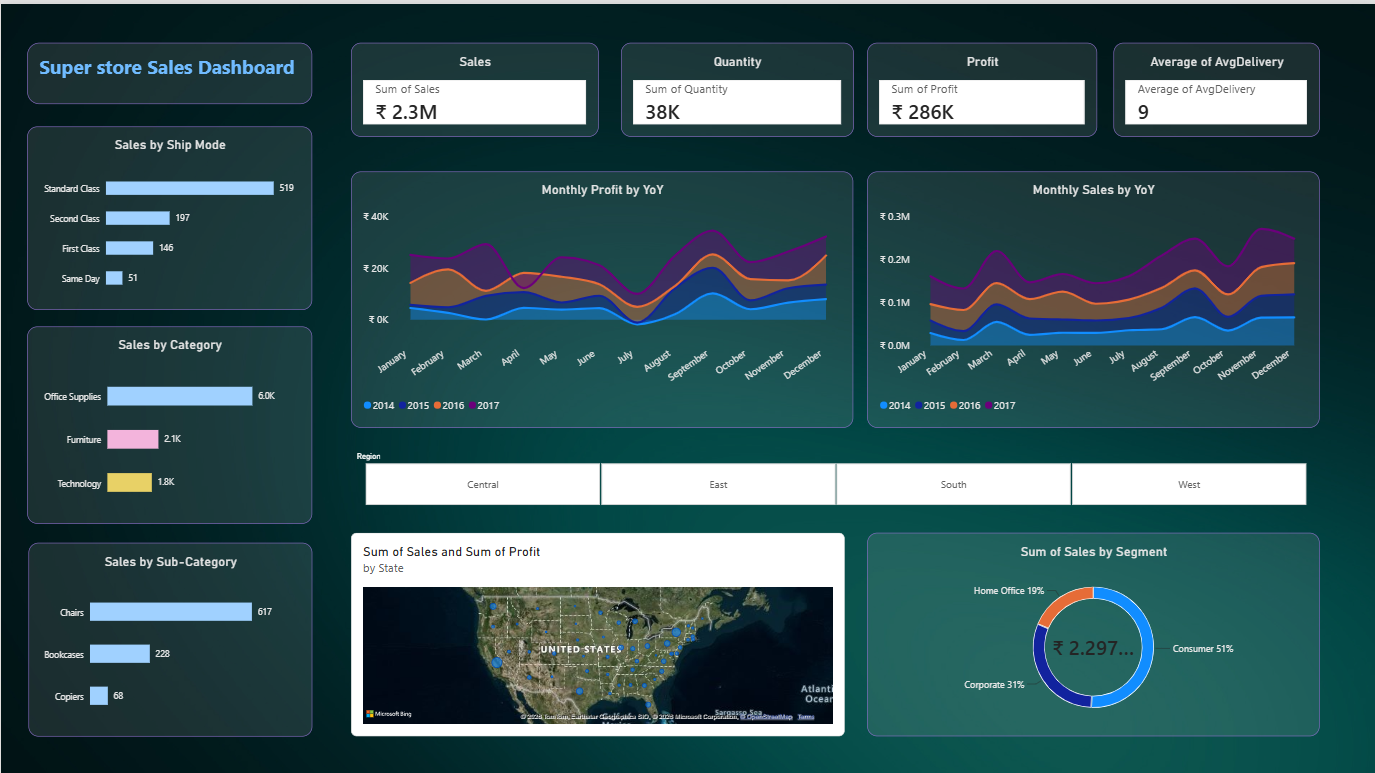

This screenshot's page, from the dashboard's own definition file:
{"tool":"powerbi","page":{"name":"Page 1","canvas":[1920,1080],"ordinal":0},"visuals":[{"type":"clusteredBarChart","title":"Sales by Category","fields":{"Category":["Sample - Superstore.Category"],"Y":["CountNonNull(Sample - Superstore.Sales)"]},"box":[36.6,450,397.7,275.6],"z":0},{"type":"clusteredBarChart","title":"Sales by Sub-Category","fields":{"Y":["CountNonNull(Sample - Superstore.Sales)"],"Category":["Sample - Superstore.Sub-Category"]},"box":[38.4,751.7,395.9,270.3],"z":1000},{"type":"clusteredBarChart","title":"Sales by Ship Mode","fields":{"Y":["CountNonNull(Sample - Superstore.Sales)"],"Category":["Sample - Superstore.Ship Mode"]},"box":[36.6,170.9,397.7,256.4],"z":2000},{"type":"stackedAreaChart","title":" Monthly Sales by YoY","fields":{"Series":["Sample - Superstore.Order Date.Variation.Date Hierarchy.Year"],"Category":["Sample - Superstore.Order Date.Variation.Date Hierarchy.Month","Sample - Superstore.Order Date.Variation.Date Hierarchy.Day"],"Y":["Sum(Sample - Superstore.Sales)"]},"box":[1208.7,233.7,631.4,357.6],"z":3000},{"type":"stackedAreaChart","title":" Monthly Profit by YoY","fields":{"Series":["Sample - Superstore.Order Date.Variation.Date Hierarchy.Year"],"Category":["Sample - Superstore.Order Date.Variation.Date Hierarchy.Month","Sample - Superstore.Order Date.Variation.Date Hierarchy.Day"],"Y":["Sum(Sample - Superstore.Profit)"]},"box":[488.4,233.7,701.2,357.6],"z":4000},{"type":"map","fields":{"Category":["Sample - Superstore.State"],"Size":["Sum(Sample - Superstore.Sales)"]},"box":[488.4,737.8,689,284.3],"z":5000},{"type":"donutChart","fields":{"Category":["Sample - Superstore.Segment"],"Y":["Sum(Sample - Superstore.Sales)"]},"box":[1208.7,737.8,631.4,284.3],"z":6000},{"type":"slicer","fields":{"Values":["Sample - Superstore.Region"]},"box":[488.4,624.4,1351.7,76.7],"z":7000},{"type":"textbox","box":[36.6,54.1,397.7,85.5],"z":8000},{"type":"cardVisual","title":"Sales","fields":{"Data":["Sum(Sample - Superstore.Sales)"]},"box":[488.4,54.1,345.3,130.8],"z":9000},{"type":"cardVisual","title":"Profit","fields":{"Data":["Sum(Sample - Superstore.Profit)"]},"box":[1208.7,54.1,320.9,130.8],"z":10000},{"type":"cardVisual","title":"Quantity","fields":{"Data":["Sum(Sample - Superstore.Quantity)"]},"box":[865.1,54.1,324.4,130.8],"z":11000},{"type":"cardVisual","title":"Average of AvgDelivery","fields":{"Data":["Avg(Sample - Superstore.AvgDelivery)"]},"box":[1552.3,54.1,287.8,130.8],"z":12000}]}

Visuals, with their boxes in screenshot pixels (x1, y1, x2, y2), scaled from the page's 1920x1080 canvas onto the 1375x773 screenshot:
"Sales by Category" clusteredBarChart: bbox=(26, 322, 311, 519)
"Sales by Sub-Category" clusteredBarChart: bbox=(28, 538, 311, 731)
"Sales by Ship Mode" clusteredBarChart: bbox=(26, 122, 311, 306)
" Monthly Sales by YoY" stackedAreaChart: bbox=(866, 167, 1318, 423)
" Monthly Profit by YoY" stackedAreaChart: bbox=(350, 167, 852, 423)
map - Sample - Superstore.State x Sum(Sample - Superstore.Sales): bbox=(350, 528, 843, 732)
donutChart - Sample - Superstore.Segment x Sum(Sample - Superstore.Sales): bbox=(866, 528, 1318, 732)
slicer - Sample - Superstore.Region: bbox=(350, 447, 1318, 502)
textbox: bbox=(26, 39, 311, 100)
"Sales" cardVisual: bbox=(350, 39, 597, 132)
"Profit" cardVisual: bbox=(866, 39, 1095, 132)
"Quantity" cardVisual: bbox=(620, 39, 852, 132)
"Average of AvgDelivery" cardVisual: bbox=(1112, 39, 1318, 132)
